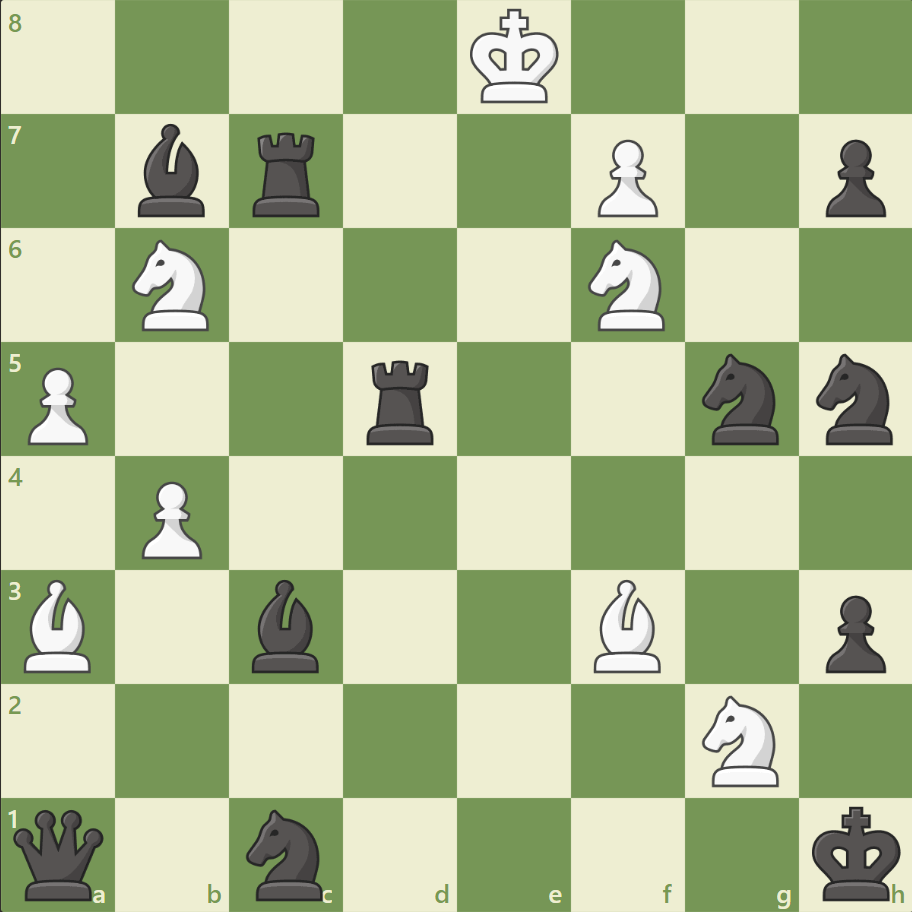B: (17, 574, 101, 676), (585, 574, 669, 676)
K: (465, 4, 565, 112)
N: (124, 234, 222, 337), (579, 234, 676, 337), (692, 688, 789, 791)
P: (20, 359, 95, 450), (133, 473, 208, 564), (588, 132, 662, 223)
b: (131, 120, 215, 222), (244, 574, 328, 676)
k: (806, 798, 906, 906)
n: (692, 348, 789, 450), (806, 348, 903, 450), (238, 802, 335, 904)
p: (815, 132, 889, 223), (815, 586, 889, 677)
q: (10, 804, 109, 903)
r: (246, 125, 329, 222), (360, 352, 442, 449)
